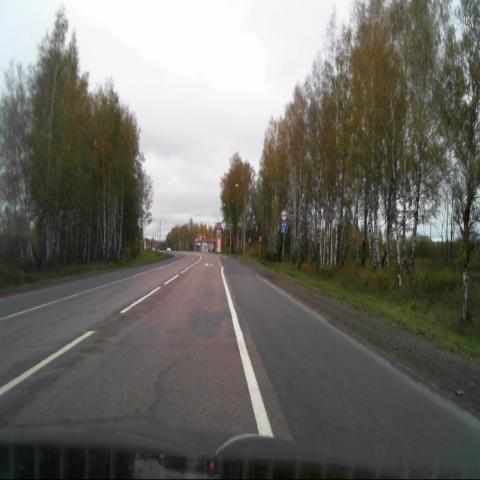5_15_3: (280, 222, 286, 233)
